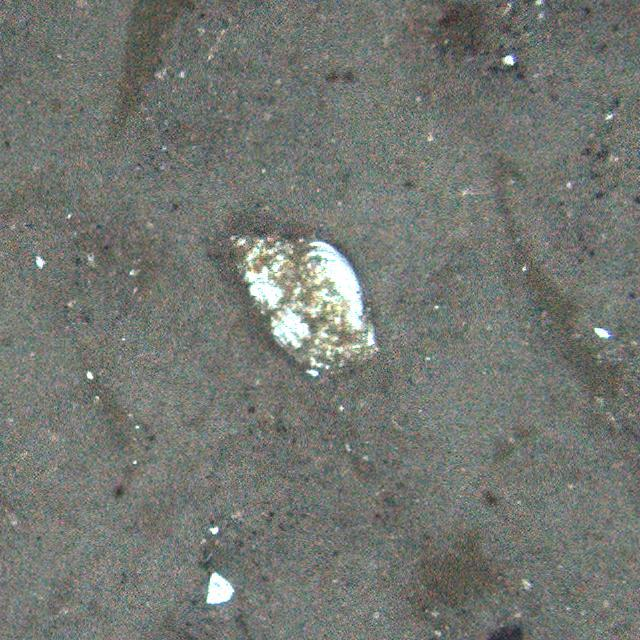whelk: (222, 224, 378, 378)
